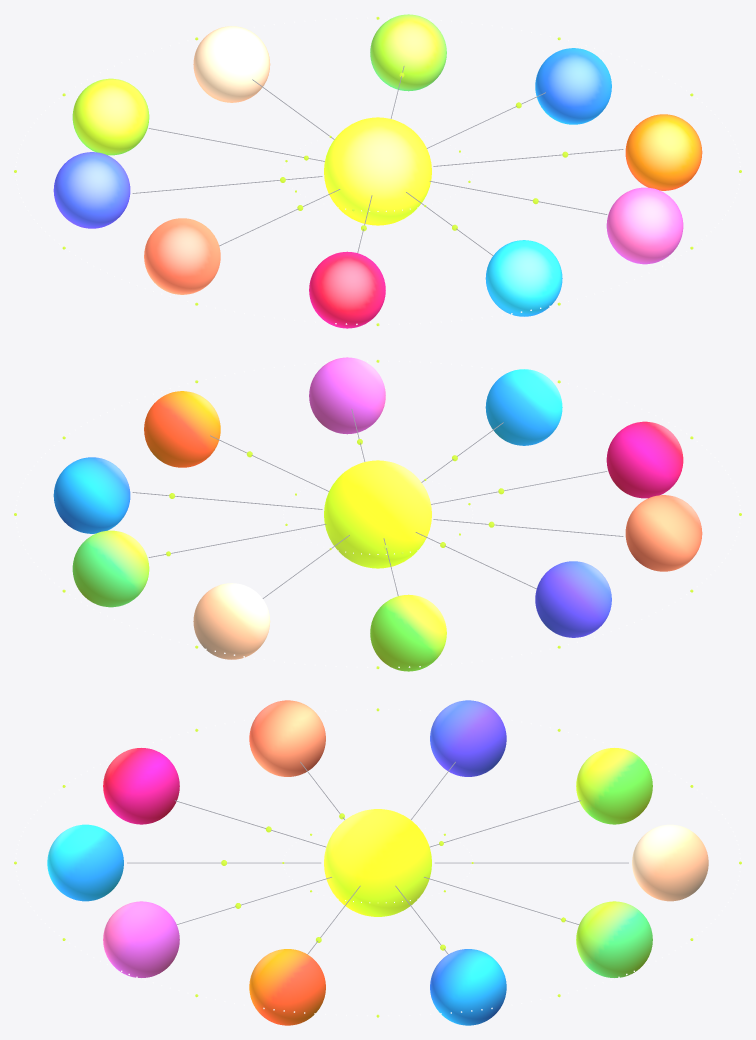
The model's file is mercat-constellation.glb.
3 views of the same model, one above another, from view 1: azimuth 30°, elevation 25°; view 2: azimuth 150°, elevation 25°; view 3: azimuth 270°, elevation 25° (orthographic).
Parts seen in each view (by area): view 1: orb_core, orb_copywriter, orb_publisher, orb_designer, orb_strategist, orb_brand, orb_editor, orb_analyst, orb_translator, orb_video, orb_radar, hud_ring_outer; view 2: orb_core, orb_strategist, orb_video, orb_radar, orb_copywriter, orb_designer, orb_translator, orb_analyst, orb_editor, orb_brand, orb_publisher, hud_ring_outer; view 3: orb_core, orb_brand, orb_translator, orb_publisher, orb_video, orb_copywriter, orb_strategist, orb_analyst, orb_editor, orb_designer, orb_radar, hud_ring_outer.
Boxes of the visible parts, x1,y1,x2,y2 form: orb_core: (324,117,431,225); orb_copywriter: (144,218,220,294); orb_publisher: (535,48,611,124); orb_designer: (606,187,683,264); orb_strategist: (53,152,130,228); orb_brand: (193,26,270,102); orb_editor: (309,251,385,328); orb_analyst: (72,78,149,155); orb_translator: (485,240,562,316); orb_video: (625,114,702,190); orb_radar: (370,14,446,91); hud_ring_outer: (14,17,741,325); orb_core: (324,460,431,568); orb_strategist: (535,561,611,637); orb_video: (144,391,220,467); orb_radar: (72,530,149,607); orb_copywriter: (625,495,702,571); orb_designer: (309,357,385,434); orb_translator: (485,369,562,445); orb_analyst: (370,594,446,671); orb_editor: (606,421,683,498); orb_brand: (193,583,270,659); orb_publisher: (53,457,130,533); hud_ring_outer: (14,360,741,668); orb_core: (324,809,431,916); orb_brand: (632,824,708,901); orb_translator: (47,824,123,901); orb_publisher: (430,949,506,1025); orb_video: (249,949,325,1025); orb_copywriter: (249,700,325,776); orb_strategist: (430,700,506,776); orb_analyst: (576,748,652,824); orb_editor: (103,748,179,824); orb_designer: (103,901,179,977); orb_radar: (576,901,652,977); hud_ring_outer: (14,708,741,1017).
Size of what is drawn, in the model's own units: 8.34 by 1.24 by 8.34.
